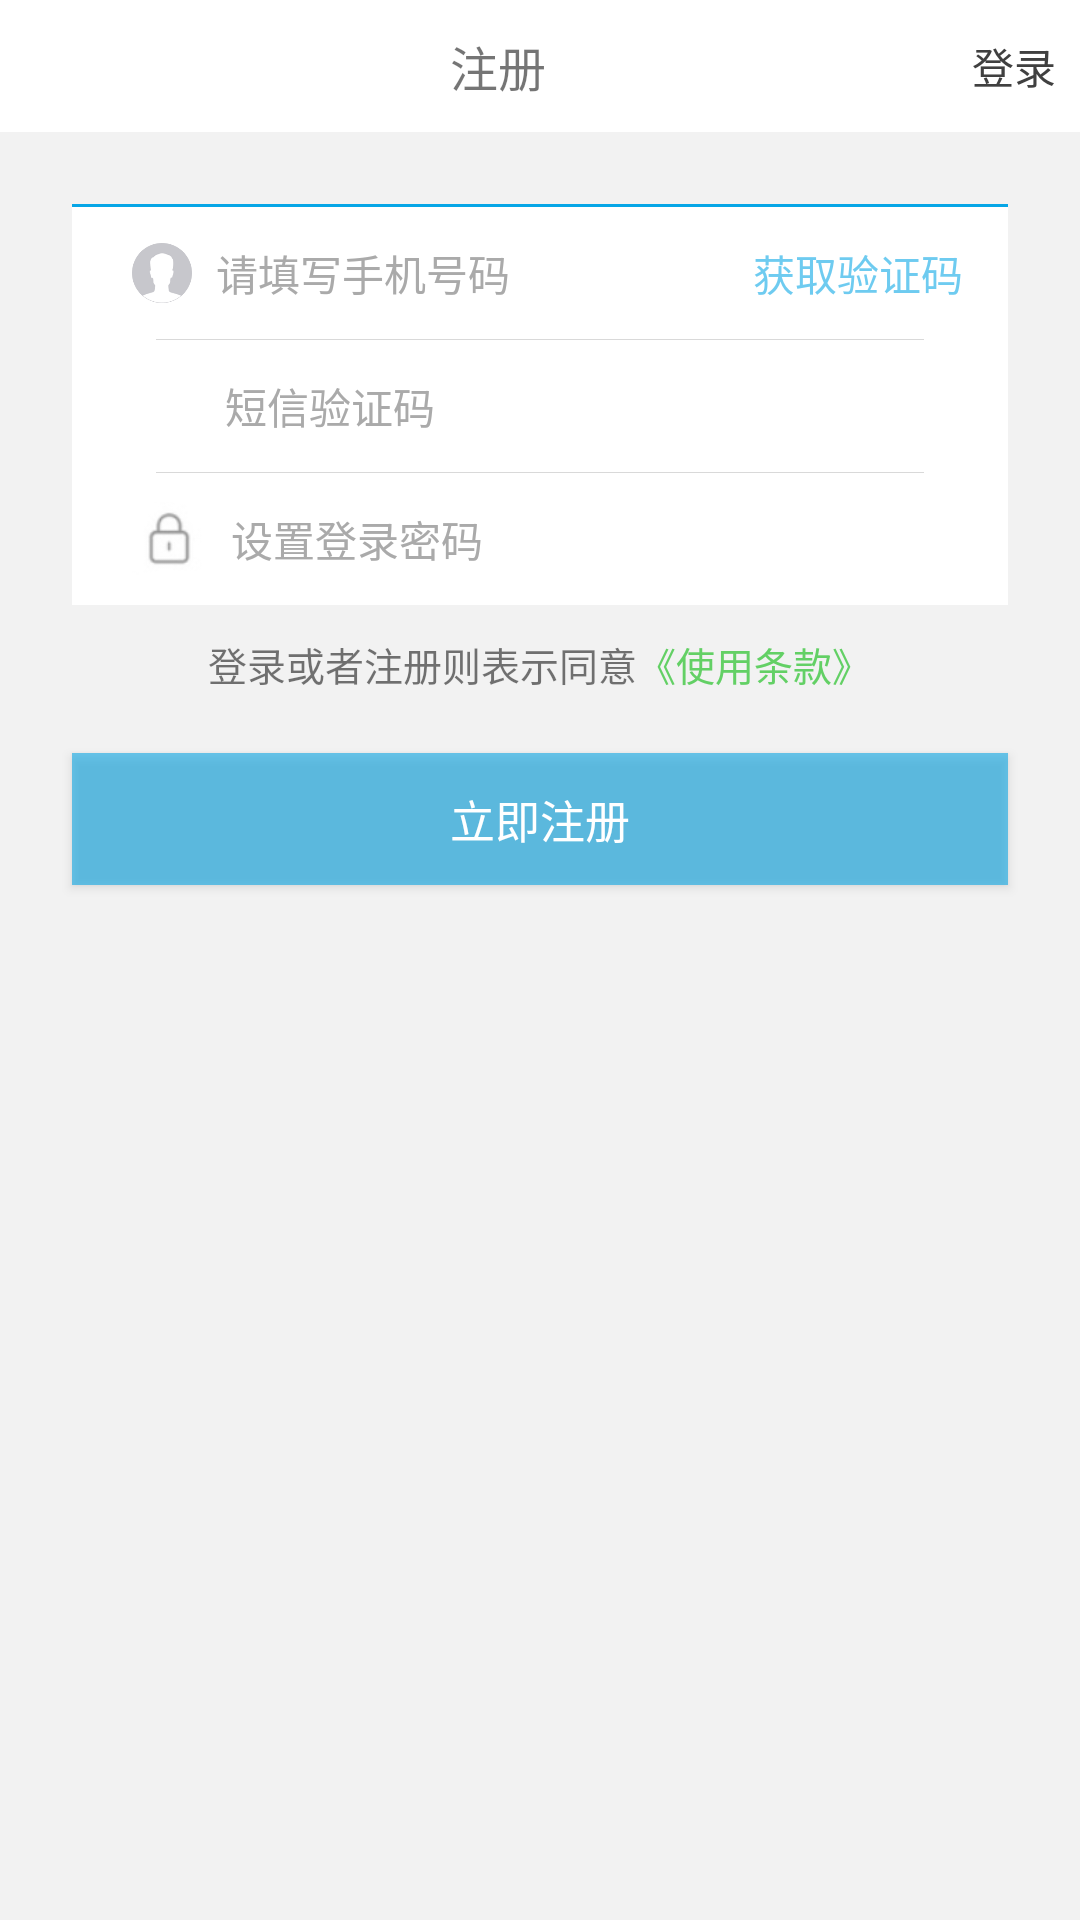

Point at icon controls on the screen. Image size 1080*1920, points as [x,y].
lock: [169,538]
person: [162,273]
